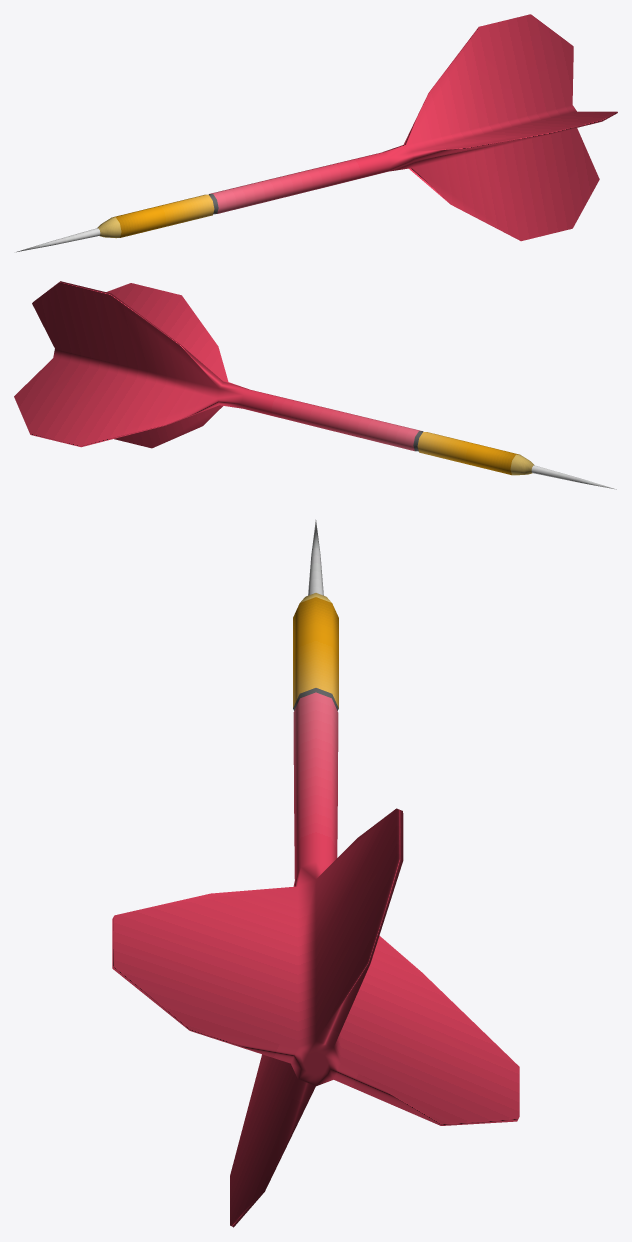
File: SM_Dart_red.fbx
3 renders of one model, top to bottom at view 1: azimuth 30°, elevation 25°; view 2: azimuth 150°, elevation 25°; view 3: azimuth 270°, elevation 25°, orthographic. The views are drawn at different scales.
Visible parts, largest first — view 1: Dart_red; view 2: Dart_red; view 3: Dart_red.
Part boxes in pixels (left/top/right/bottom): Dart_red: left=16, top=14, right=617, bottom=252; Dart_red: left=14, top=281, right=616, bottom=489; Dart_red: left=112, top=519, right=519, bottom=1227.
Bounding box in the file's own units: 34.15 × 10.54 × 10.53.
